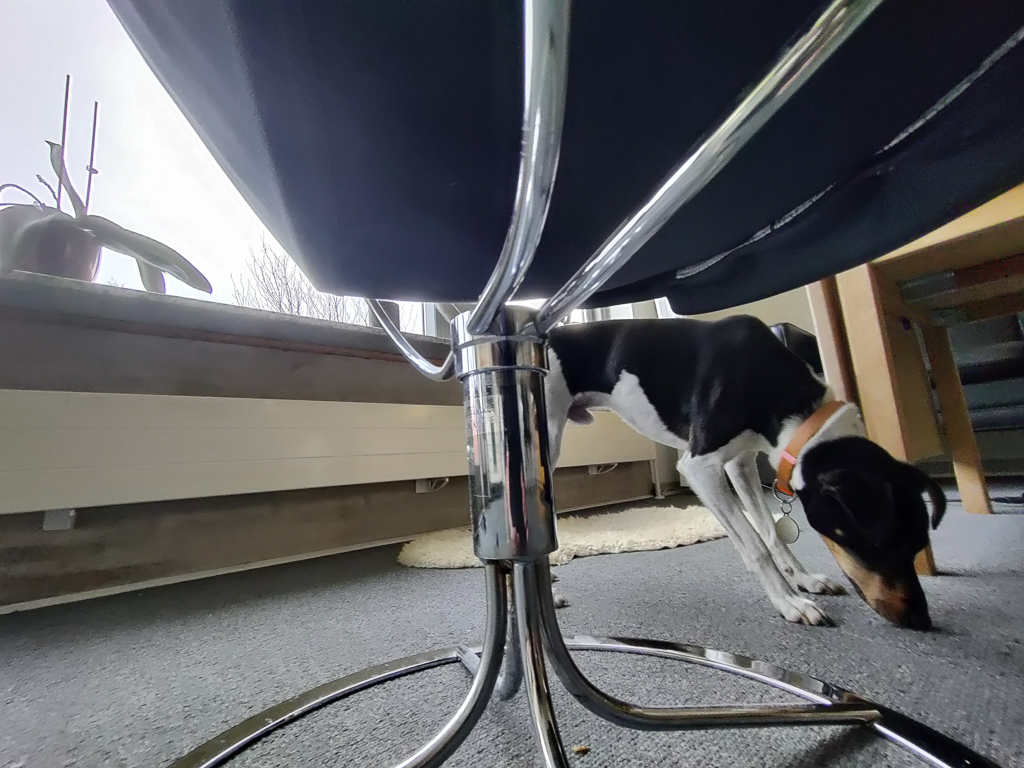Dog: (420, 281, 971, 654)
